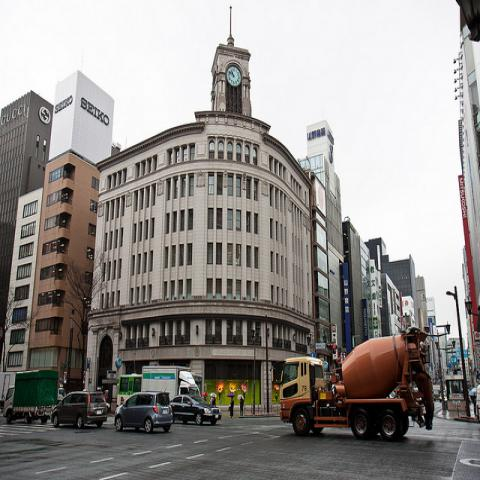car: (114, 389, 172, 435), (51, 390, 109, 430), (170, 392, 222, 424), (440, 390, 448, 402)
truck: (278, 323, 436, 441), (4, 370, 58, 422), (140, 366, 200, 402)
